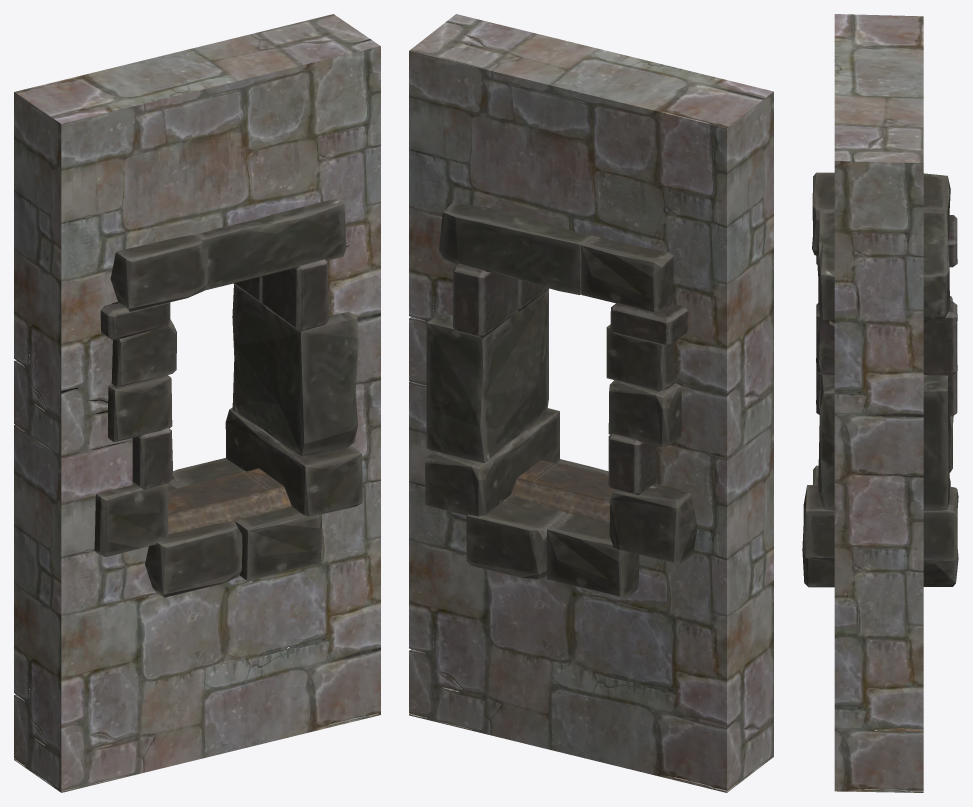
The picture shows the model from 3 angles, left to right: view 1: azimuth 30°, elevation 25°; view 2: azimuth 150°, elevation 25°; view 3: azimuth 270°, elevation 25°; orthographic projection. The views are drawn at different scales.
Parts seen in each view (by area): view 1: SM_BB_T3_Extended_Wall_Windowframe_Narrow_02_LOD0; view 2: SM_BB_T3_Extended_Wall_Windowframe_Narrow_02_LOD0; view 3: SM_BB_T3_Extended_Wall_Windowframe_Narrow_02_LOD0.
Part boxes in pixels (x1,y1,x2,y2): SM_BB_T3_Extended_Wall_Windowframe_Narrow_02_LOD0: [14, 14, 380, 792]; SM_BB_T3_Extended_Wall_Windowframe_Narrow_02_LOD0: [409, 14, 773, 792]; SM_BB_T3_Extended_Wall_Windowframe_Narrow_02_LOD0: [802, 14, 958, 792].
Size of the model in its own units: 1.5 by 3.01 by 0.6737.
Materials: 3 (3 with a texture image).
